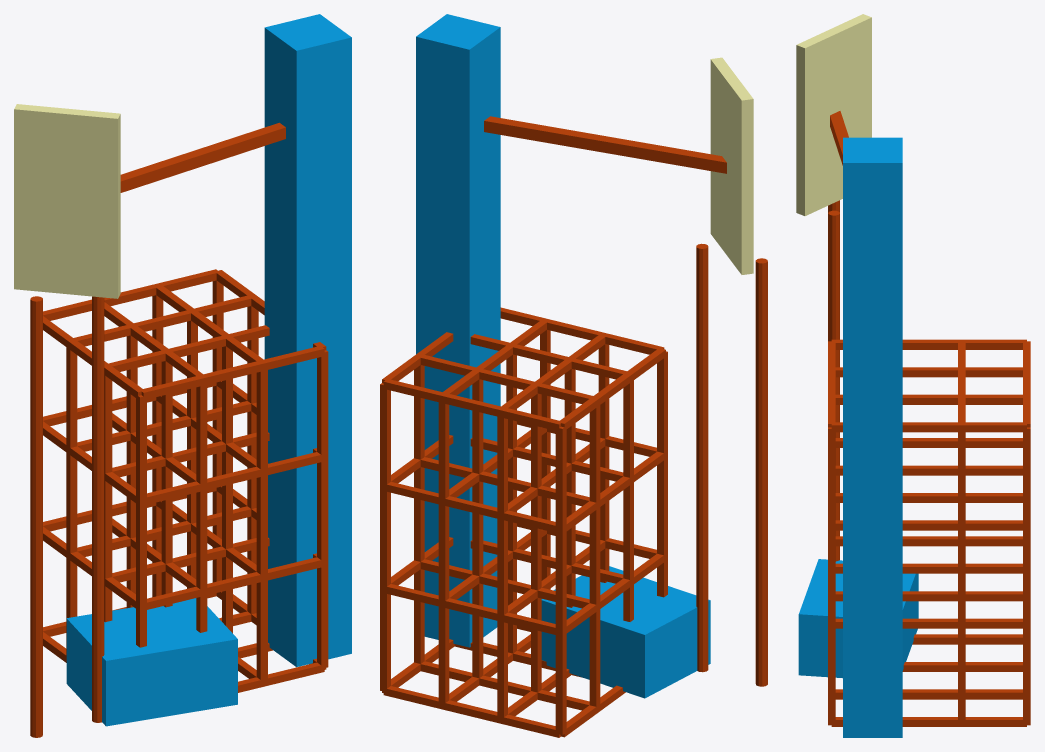
File: folie_tag_117.glb
3 renders of one model, left to right at view 1: azimuth 30°, elevation 25°; view 2: azimuth 150°, elevation 25°; view 3: azimuth 270°, elevation 25°, orthographic. The views are drawn at different scales.
Parts seen in each view (by area): view 1: folie_tag_117_00_cage, folie_tag_117_core, folie_tag_117_01_panel, folie_tag_117_02_block, folie_tag_117_line; view 2: folie_tag_117_00_cage, folie_tag_117_core, folie_tag_117_line, folie_tag_117_02_block, folie_tag_117_01_panel; view 3: folie_tag_117_core, folie_tag_117_00_cage, folie_tag_117_01_panel, folie_tag_117_02_block, folie_tag_117_line.
Boxes of the visible parts, x1=… form: folie_tag_117_00_cage: x1=43, y1=269, x2=328, y2=692; folie_tag_117_core: x1=264, y1=14, x2=351, y2=667; folie_tag_117_01_panel: x1=14, y1=104, x2=120, y2=298; folie_tag_117_02_block: x1=66, y1=598, x2=237, y2=726; folie_tag_117_line: x1=30, y1=122, x2=285, y2=737; folie_tag_117_00_cage: x1=380, y1=307, x2=667, y2=737; folie_tag_117_core: x1=416, y1=14, x2=500, y2=647; folie_tag_117_line: x1=484, y1=116, x2=767, y2=686; folie_tag_117_02_block: x1=541, y1=566, x2=710, y2=698; folie_tag_117_01_panel: x1=710, y1=57, x2=753, y2=274; folie_tag_117_core: x1=843, y1=137, x2=902, y2=737; folie_tag_117_00_cage: x1=828, y1=339, x2=1030, y2=726; folie_tag_117_01_panel: x1=796, y1=14, x2=871, y2=215; folie_tag_117_02_block: x1=798, y1=559, x2=918, y2=678; folie_tag_117_line: x1=828, y1=111, x2=848, y2=561.
Size of the model in its own units: 6.5 by 11.78 by 4.33.
